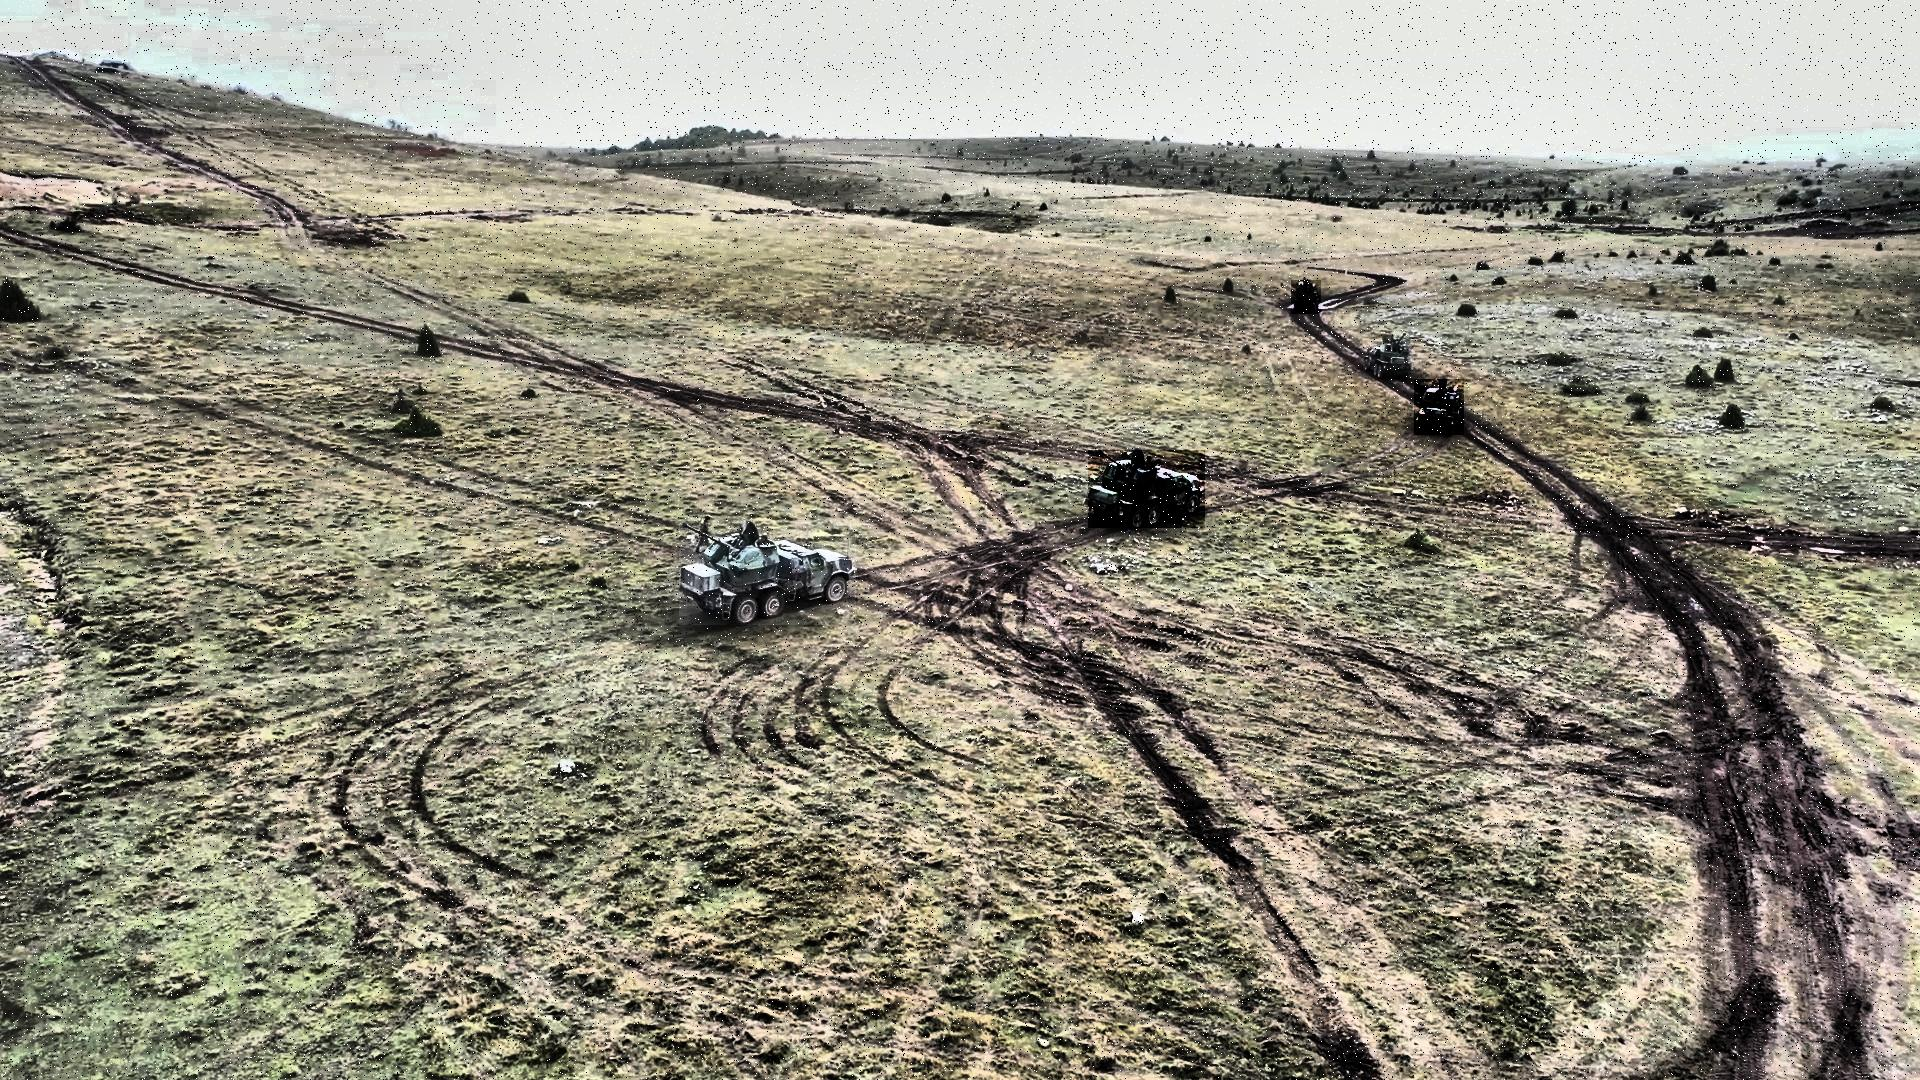military-vehicle: (680, 520, 857, 625), (1088, 450, 1205, 529), (1414, 380, 1464, 435), (1364, 332, 1414, 378), (1292, 280, 1321, 314)
